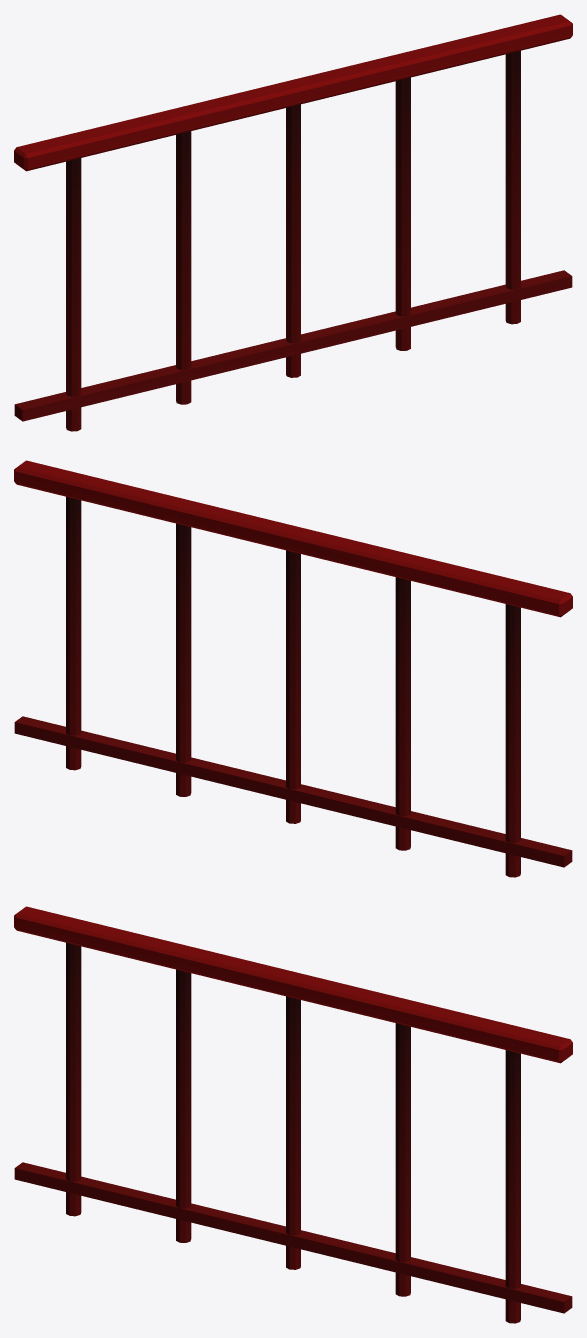
File: railing_2m.glb
The picture shows the model from 3 angles, top to bottom: view 1: azimuth 30°, elevation 25°; view 2: azimuth 150°, elevation 25°; view 3: azimuth 330°, elevation 25°; orthographic projection.
Parts seen in each view (by area): view 1: railing_2m; view 2: railing_2m; view 3: railing_2m.
Boxes of the visible parts, x1,y1,x2,y2 form: railing_2m: [14, 14, 572, 431]; railing_2m: [14, 460, 572, 877]; railing_2m: [14, 906, 572, 1323].
Size of what is drawn, in the model's own units: 2 by 1.01 by 0.08.
